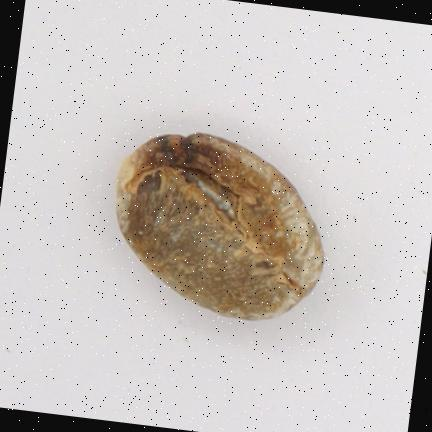broken: (117, 133, 324, 319)
